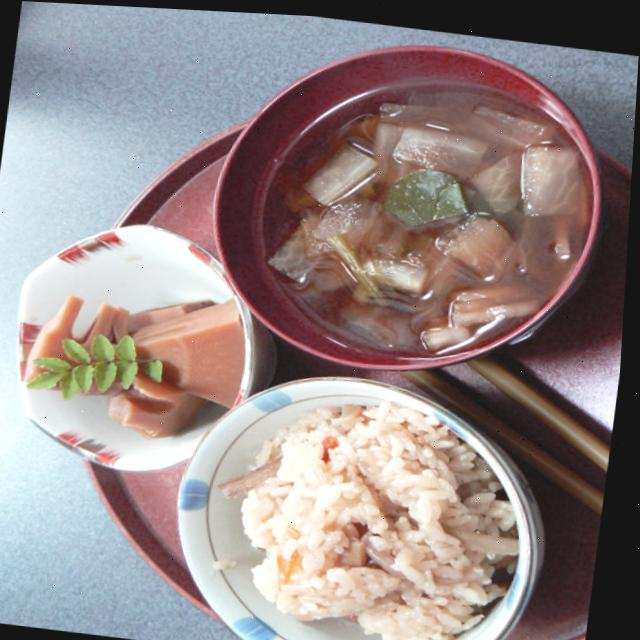汤锅炖物: (194, 15, 619, 391)
米饭主食: (163, 350, 571, 640)
